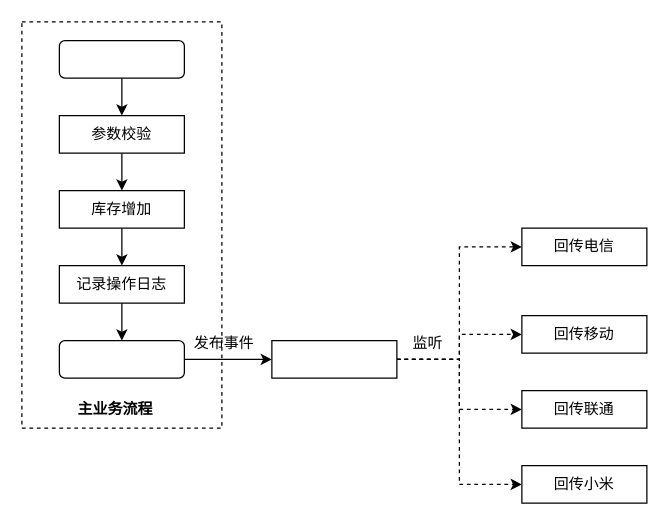
Image size: 669x525. Some labels were removed from this diagram. The centre of each missing label's shape, as x and y in pixels:
"完成" goes at point 121,358.
"开始" goes at point 121,58.
"退单返库事件" goes at point 334,358.
